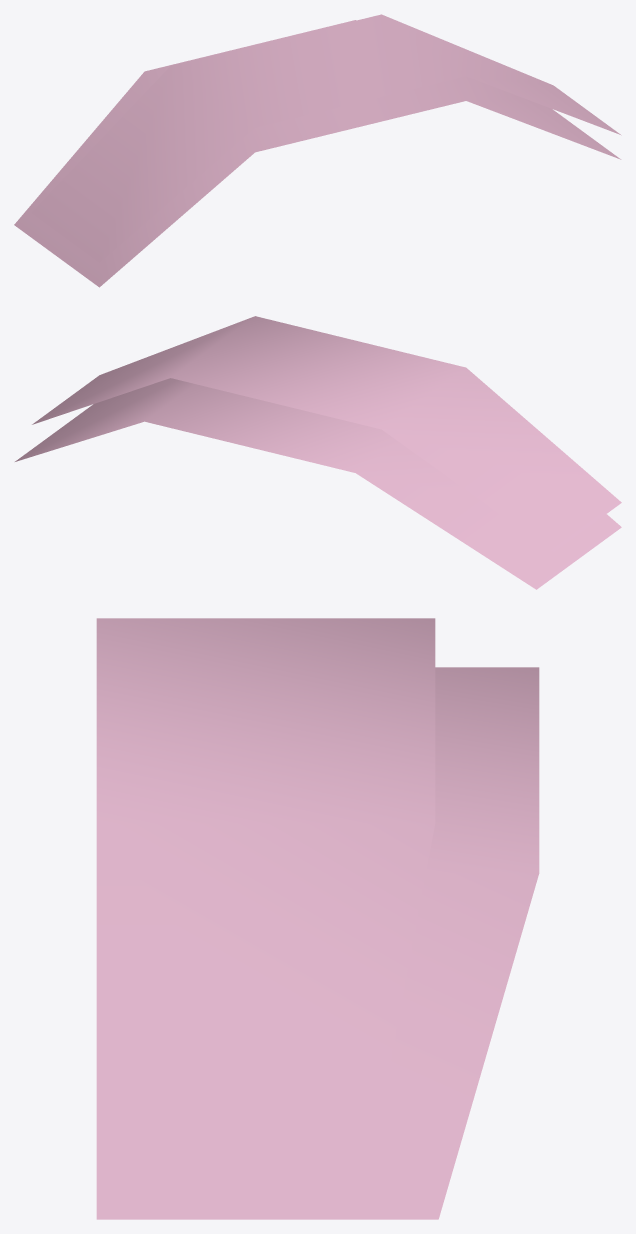
The picture shows the model from 3 angles, top to bottom: view 1: azimuth 30°, elevation 25°; view 2: azimuth 150°, elevation 25°; view 3: azimuth 270°, elevation 25°; orthographic projection. The views are drawn at different scales.
Parts seen in each view (by area): view 1: Object74; view 2: Object74; view 3: Object74.
Boxes of the visible parts, x1,y1,x2,y2 form: Object74: [14, 14, 621, 287]; Object74: [15, 316, 621, 589]; Object74: [96, 618, 539, 1219].
Bounding box in the file's own units: 158894 × 35375 × 58276.
